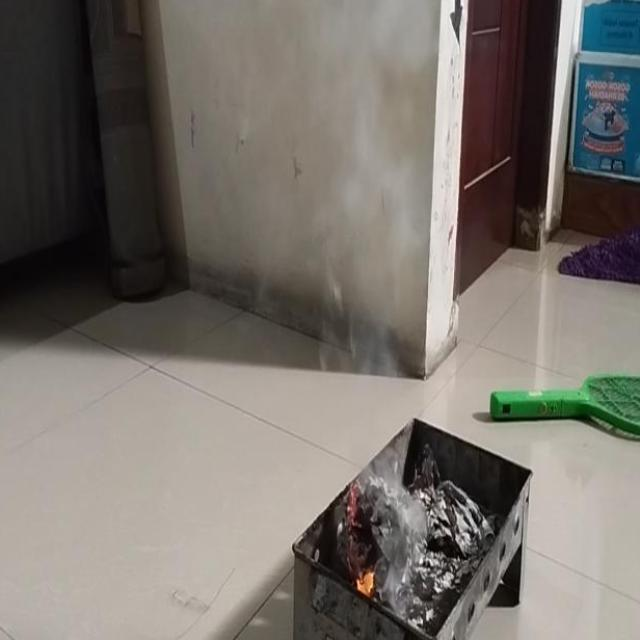fire: (314, 0, 439, 379)
smoke: (349, 560, 382, 602)
